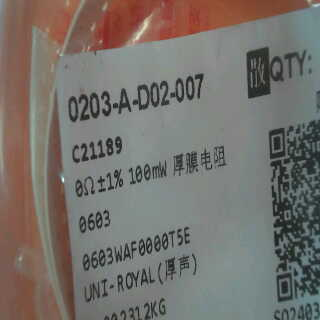0R: (72, 165, 126, 232)
